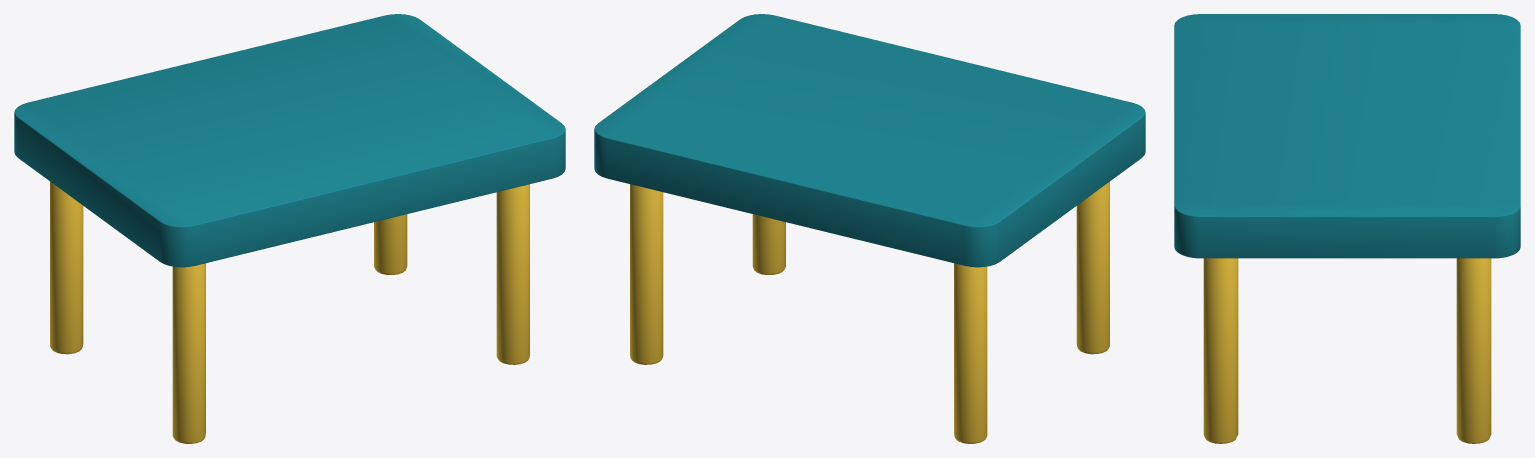
The model's file is mesa_centro_baixa_turquesa.glb.
3 views of the same model, side by side, from view 1: azimuth 30°, elevation 25°; view 2: azimuth 150°, elevation 25°; view 3: azimuth 270°, elevation 25° (orthographic). The views are drawn at different scales.
Parts seen in each view (by area): view 1: mesa_centro_baixa_turquesa; view 2: mesa_centro_baixa_turquesa; view 3: mesa_centro_baixa_turquesa.
Boxes of the visible parts, x1,y1,x2,y2 form: mesa_centro_baixa_turquesa: (14,14,565,443); mesa_centro_baixa_turquesa: (594,14,1145,443); mesa_centro_baixa_turquesa: (1174,14,1520,443).
Size of the model in its own units: 0.72 by 0.4 by 0.52.
Materials: 1 (1 with a texture image).
